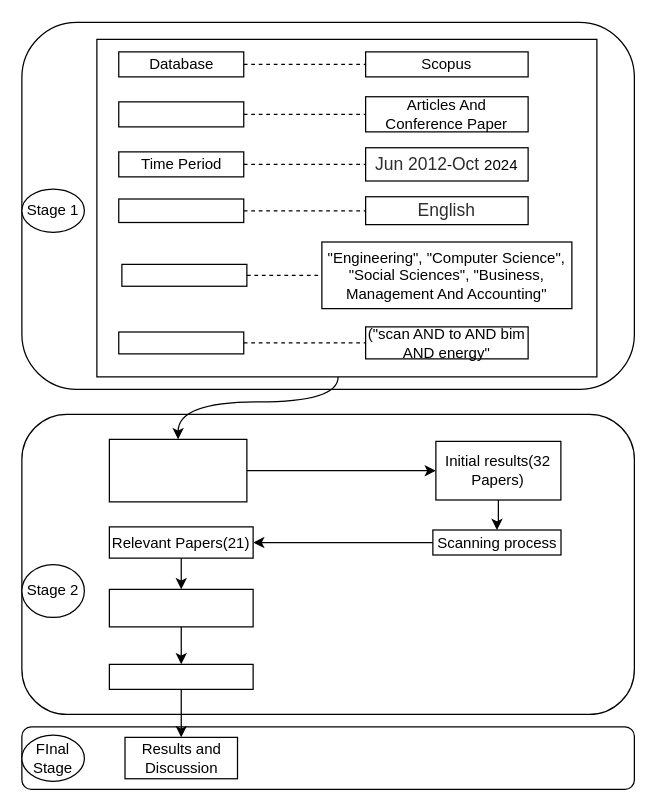
The diagram is 656 pixels wide and 811 high, and some of its shapes have lost their labels. The shapes that lost their labels are listed below. From the top down, each one's centre as x and y in pixels, then its label:
[181,114]: Type of Literature
[181,210]: Language
[184,274]: Subject Area
[181,342]: Keywords
[177,470]: Literature Search and Retrival Relevant Papers
[180,607]: Literature Content Analysis
[180,676]: 16 Papers
